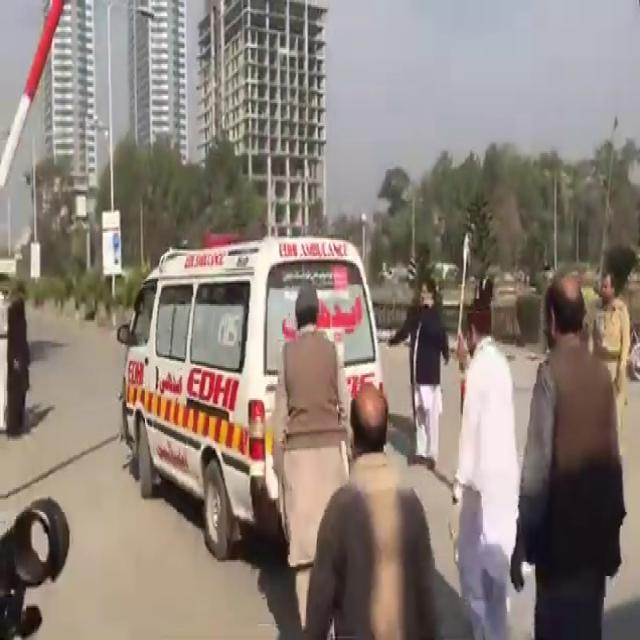ambulance: (120, 174, 392, 492)
